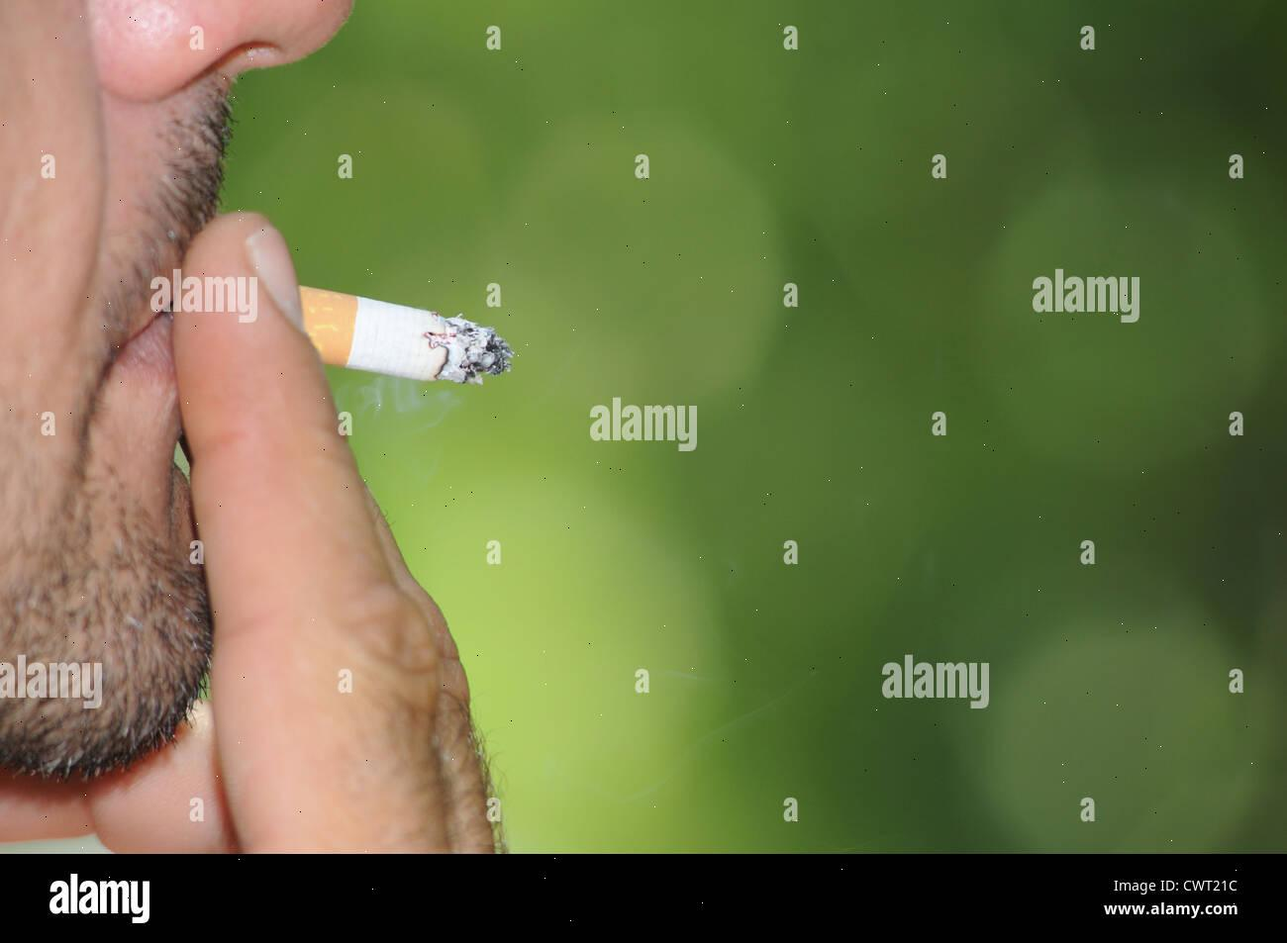cigarette: (300, 287, 512, 383)
